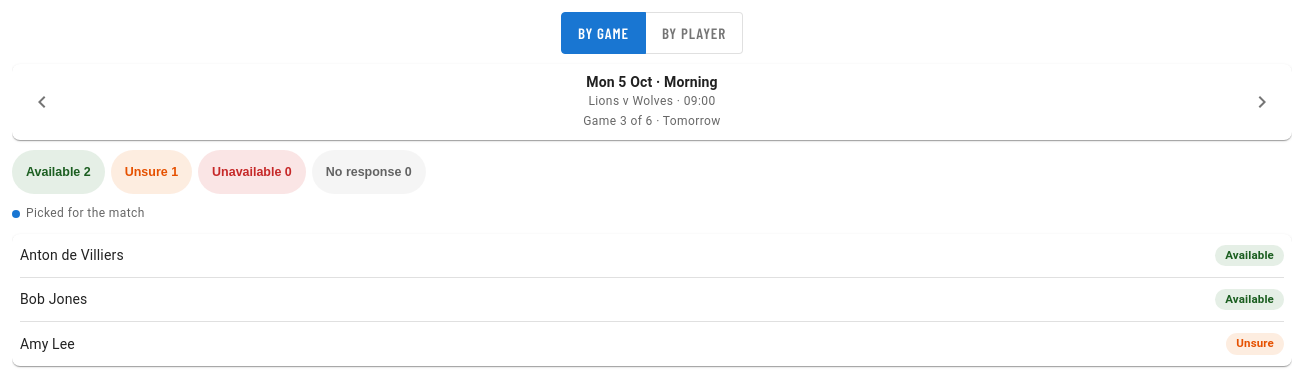
Test: PlayersPhoneLists › By player › puts the legend directly under the switch, with the "No poll" wording
Step 1. Click the button "By player" → (694, 33), box left=645, top=12, right=743, bottom=54
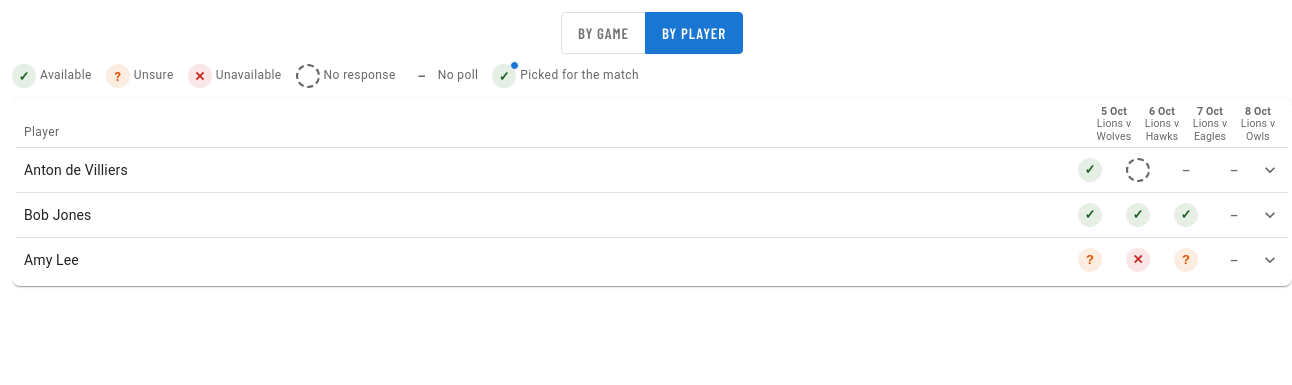
Expected: the text "No poll" is shown, left=438, top=66, right=478, bottom=86
